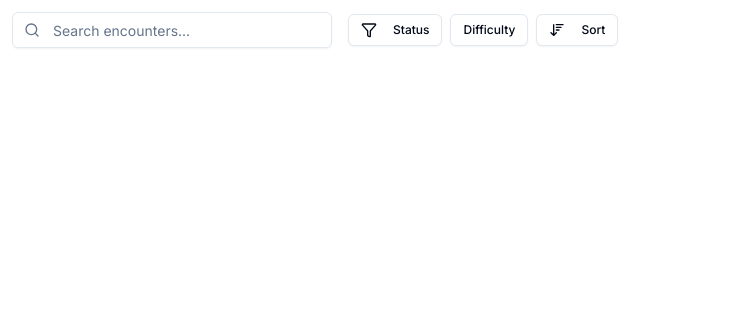
Test: EncounterFilters › Sort Functionality › opens sort dropdown
This screenshot has width=745, height=314.
What coordinates should you click on to do the following:
click the button "Sort"
I would click on:
 (577, 30)
Its box is [536,14,618,46].
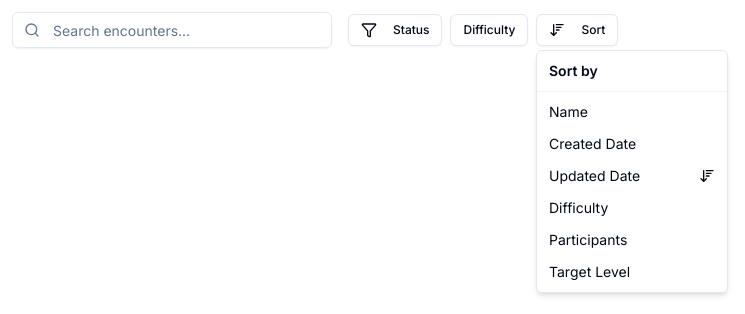
Check: the text "Sort by" is shown, box [549,62,598,79]
Check: the menu item "Name" is shown, box [549,103,588,120]
Check: the menu item "Created Date" is shown, box [549,135,636,152]
